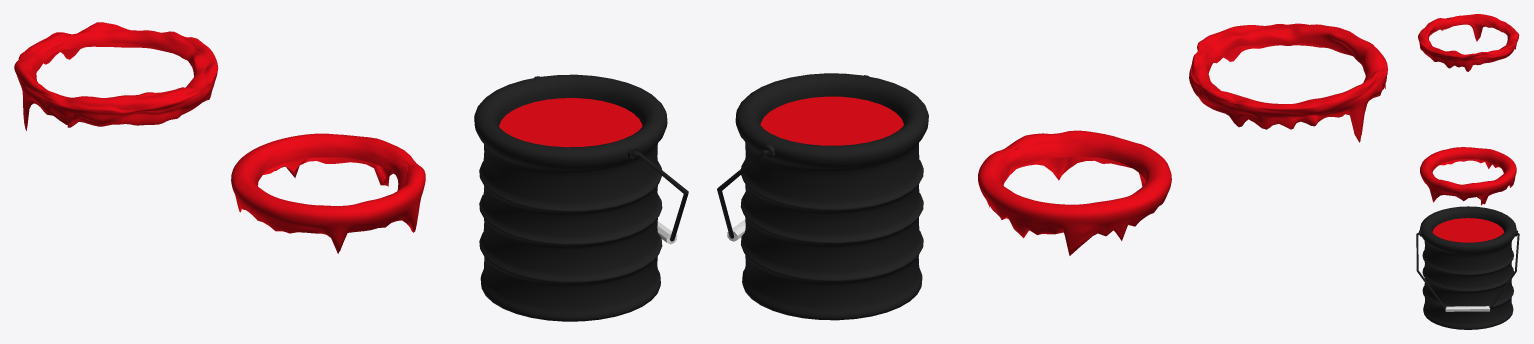
Rendered from pot.fbx.
3 views of the same model, side by side, from view 1: azimuth 30°, elevation 25°; view 2: azimuth 150°, elevation 25°; view 3: azimuth 270°, elevation 25° (orthographic). The views are drawn at different scales.
Visible parts, largest first — view 1: Seau, Couleur, Cylinder.007, Couleur.001, Poignee; view 2: Seau, Couleur, Cylinder.007, Couleur.001, Poignee; view 3: Seau, Couleur, Cylinder.007, Couleur.001, Poignee.
Boxes of the visible parts, x1,y1,x2,y2 form: Seau: (474,74,667,321); Couleur: (231,133,425,253); Cylinder.007: (14,22,218,130); Couleur.001: (499,98,642,147); Poignee: (534,76,688,244); Seau: (735,73,928,320); Couleur: (978,130,1171,255); Cylinder.007: (1189,23,1387,142); Couleur.001: (760,96,903,145); Poignee: (717,75,868,241); Seau: (1420,206,1516,329); Couleur: (1420,147,1516,205); Cylinder.007: (1418,14,1519,71); Couleur.001: (1432,218,1503,242); Poignee: (1416,230,1519,311).
Size of the model in its own units: 763 by 392 by 219.
